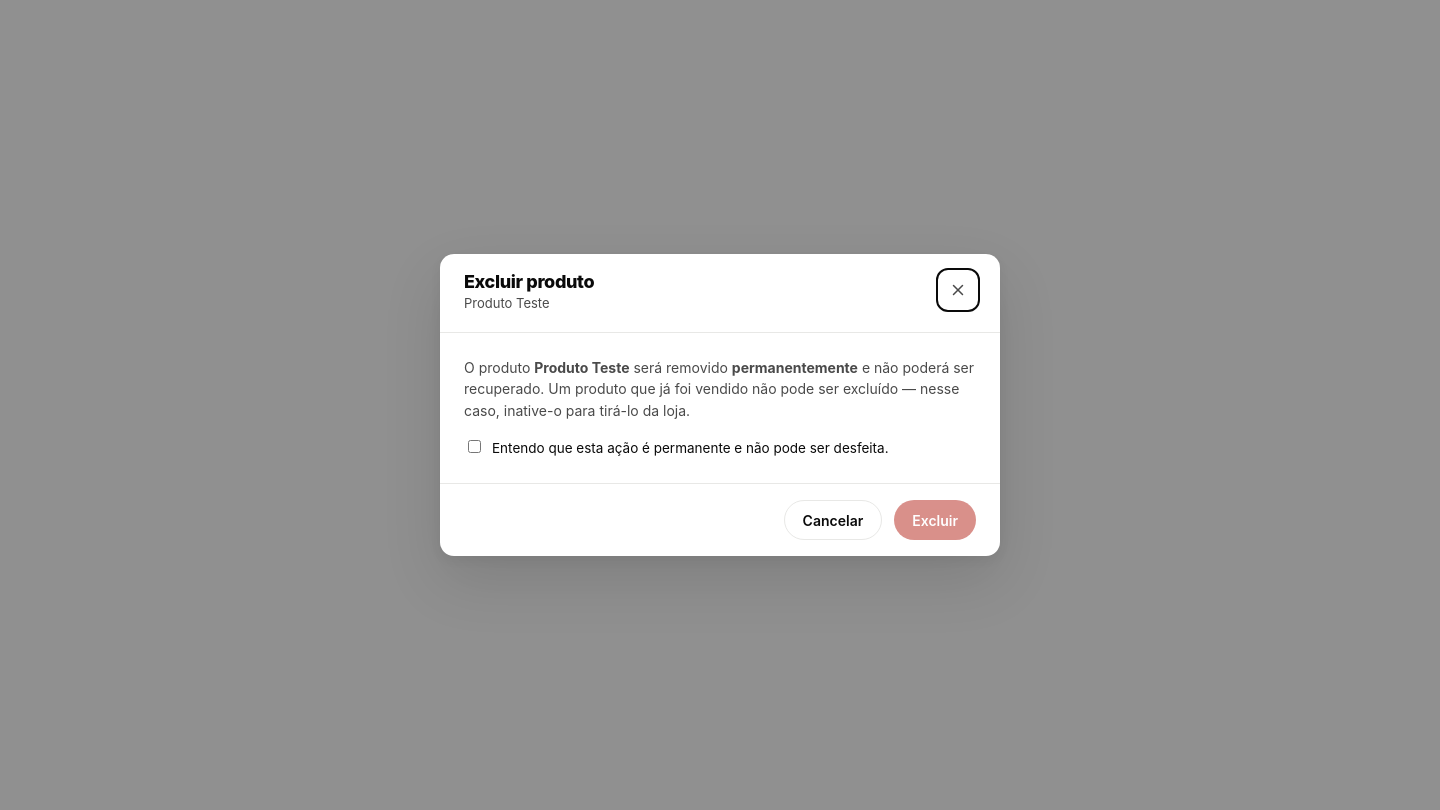
DeleteProductModal (admin/DeleteProductModal) › exibe o erro do servidor (ex.: produto ja vendido) sem fechar
Click the checkbox.
click(474, 446)  # box left=468, top=440, right=481, bottom=453
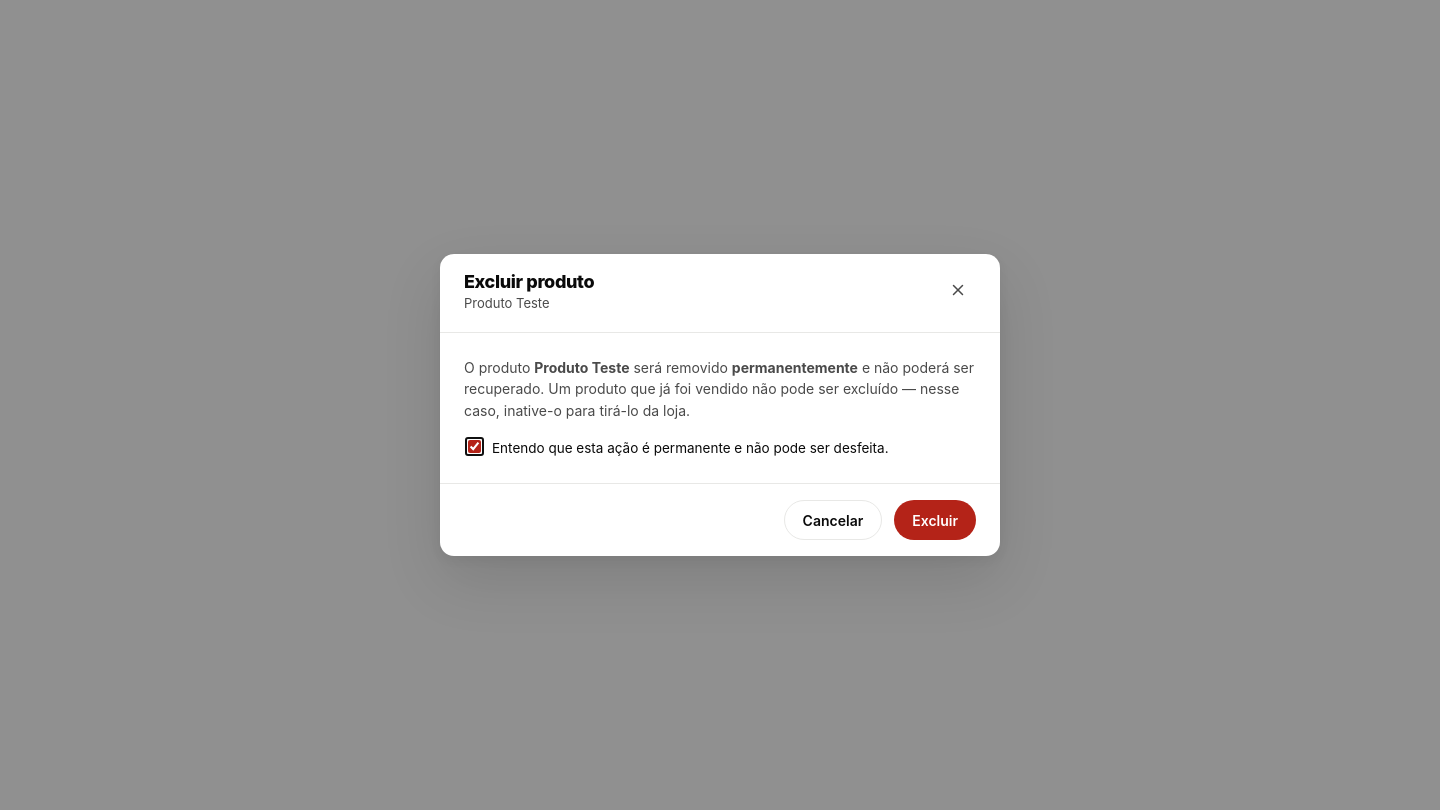
Click the button "Excluir".
click(935, 520)  # box left=894, top=500, right=976, bottom=540
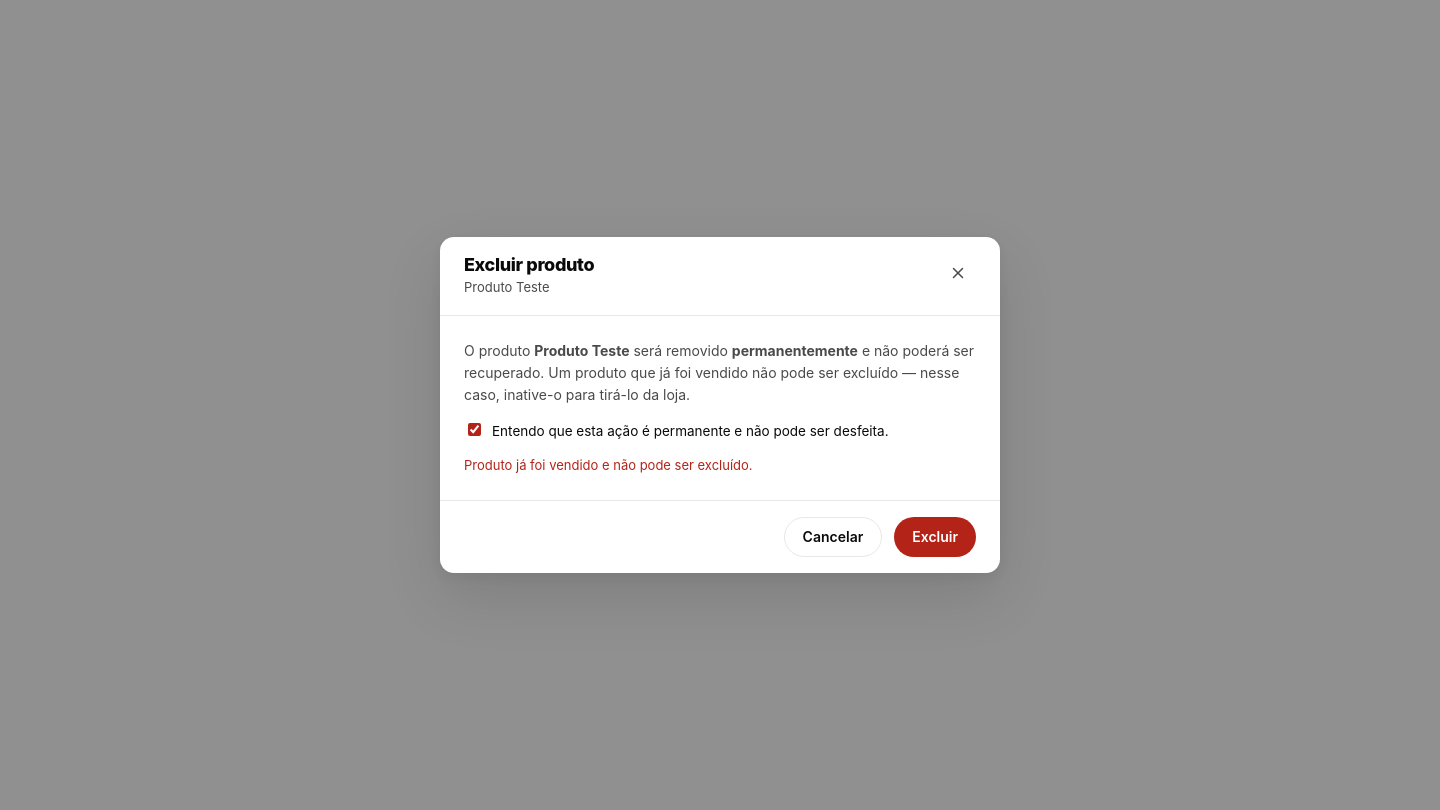
expect the message shows "já foi vendido": met, box left=464, top=457, right=753, bottom=473
